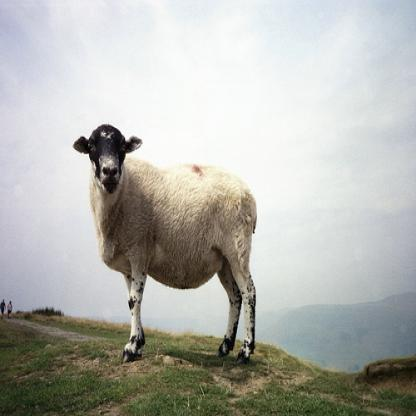sheep: (73, 123, 258, 361)
